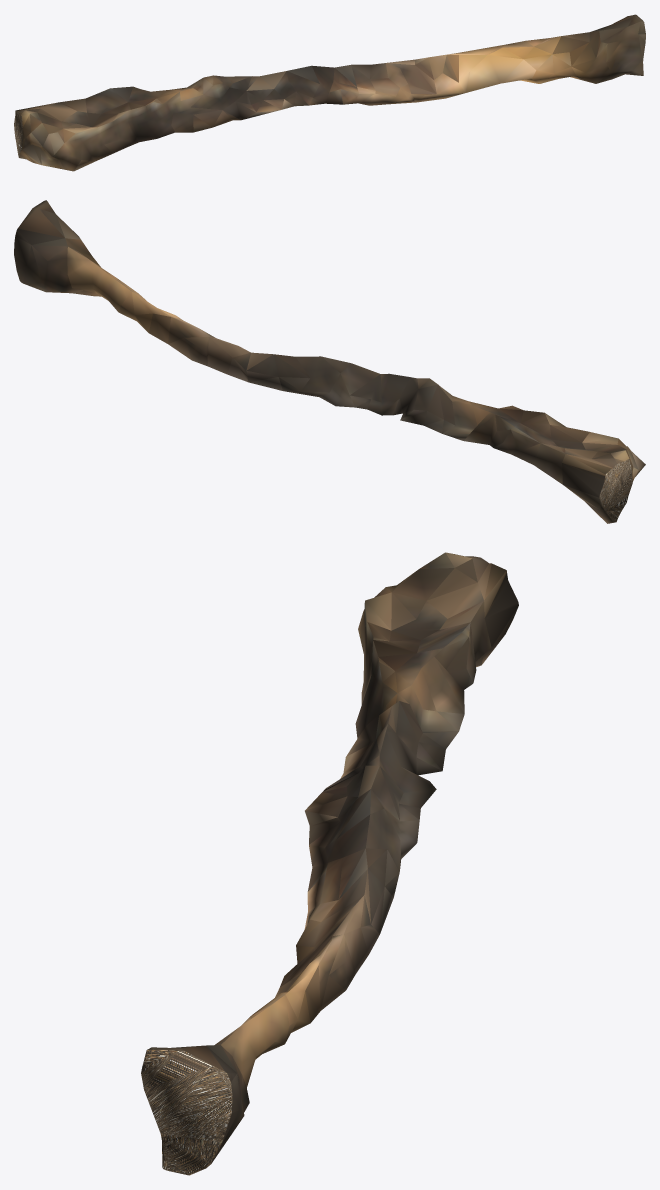
The model's file is Sungaya_inexpectata_31mg.003.obj.
The picture shows the model from 3 angles, top to bottom: view 1: azimuth 30°, elevation 25°; view 2: azimuth 150°, elevation 25°; view 3: azimuth 270°, elevation 25°; orthographic projection. The views are drawn at different scales.
Visible parts, largest first — view 1: 17-f-l-femur_Sungaya_inexpectata_31mg.003; view 2: 17-f-l-femur_Sungaya_inexpectata_31mg.003; view 3: 17-f-l-femur_Sungaya_inexpectata_31mg.003.
Part boxes in pixels (box(x1,y1,x2,y2)): 17-f-l-femur_Sungaya_inexpectata_31mg.003: box(14, 14, 645, 171); 17-f-l-femur_Sungaya_inexpectata_31mg.003: box(14, 200, 645, 523); 17-f-l-femur_Sungaya_inexpectata_31mg.003: box(141, 552, 518, 1175).
Bounding box in the file's own units: 0.00427 × 0.000519 × 0.00127.
Materials: 1 (1 with a texture image).
